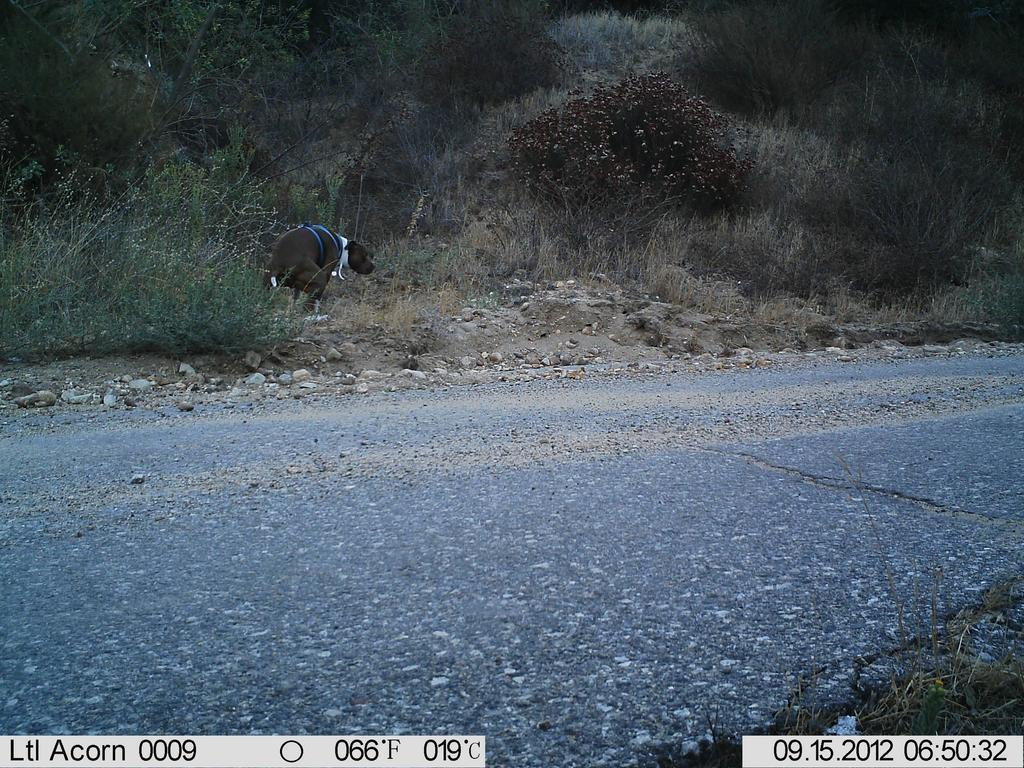dog: (259, 208, 387, 323)
